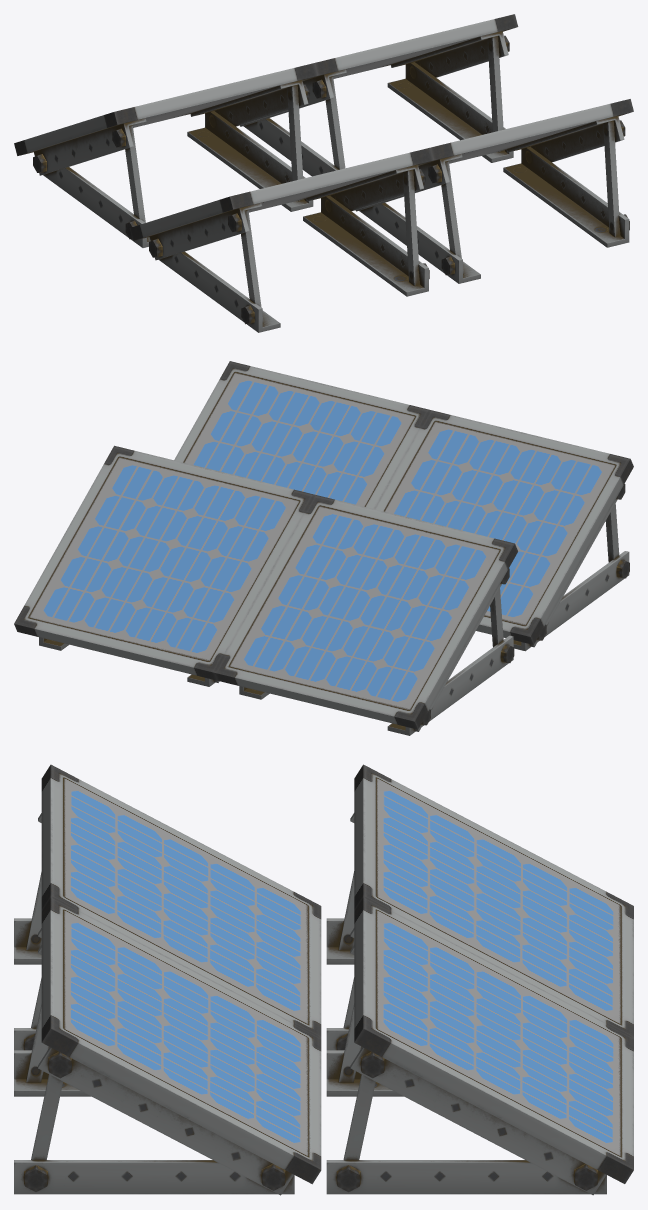
The model's file is P_RoofEquipment_009_S1_M02_Large.obj.
3 renders of one model, top to bottom at view 1: azimuth 30°, elevation 25°; view 2: azimuth 150°, elevation 25°; view 3: azimuth 270°, elevation 25°, orthographic. The views are drawn at different scales.
Size of the model in its own units: 2 by 0.6204 by 1.98.
4 materials, 4 textured.
